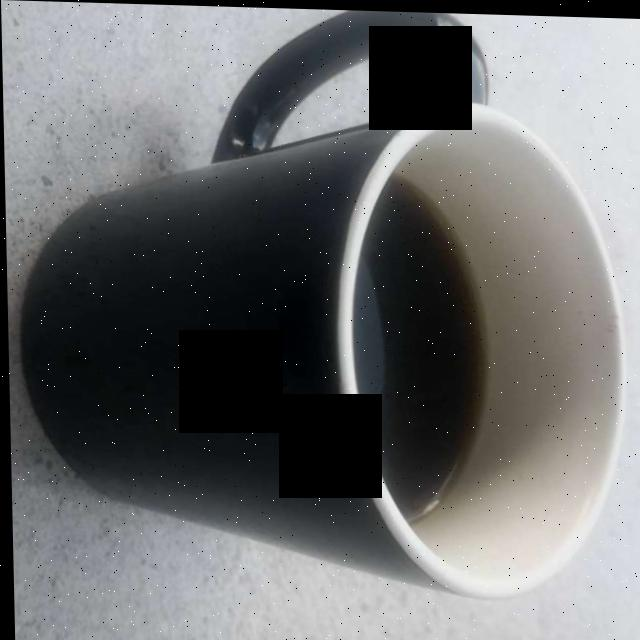coffee-with-caffeine: (354, 176, 485, 518)
